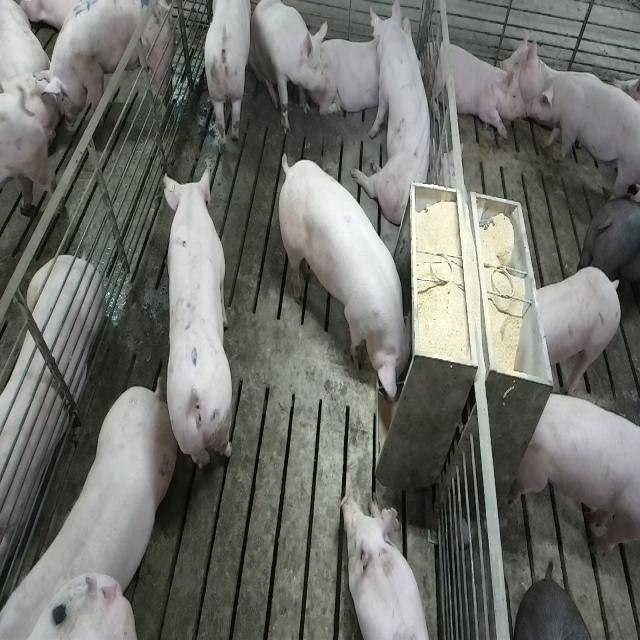Feeding: (282, 150, 420, 406)
Sitting: (357, 5, 438, 231), (249, 0, 331, 136)
Standing: (162, 166, 234, 479), (514, 386, 638, 564), (37, 0, 179, 134), (522, 66, 638, 204), (532, 265, 622, 399), (202, 2, 253, 154), (581, 190, 640, 306)
Sternal_lying: (0, 250, 101, 576), (342, 491, 434, 640), (425, 31, 524, 141), (314, 30, 384, 121)
